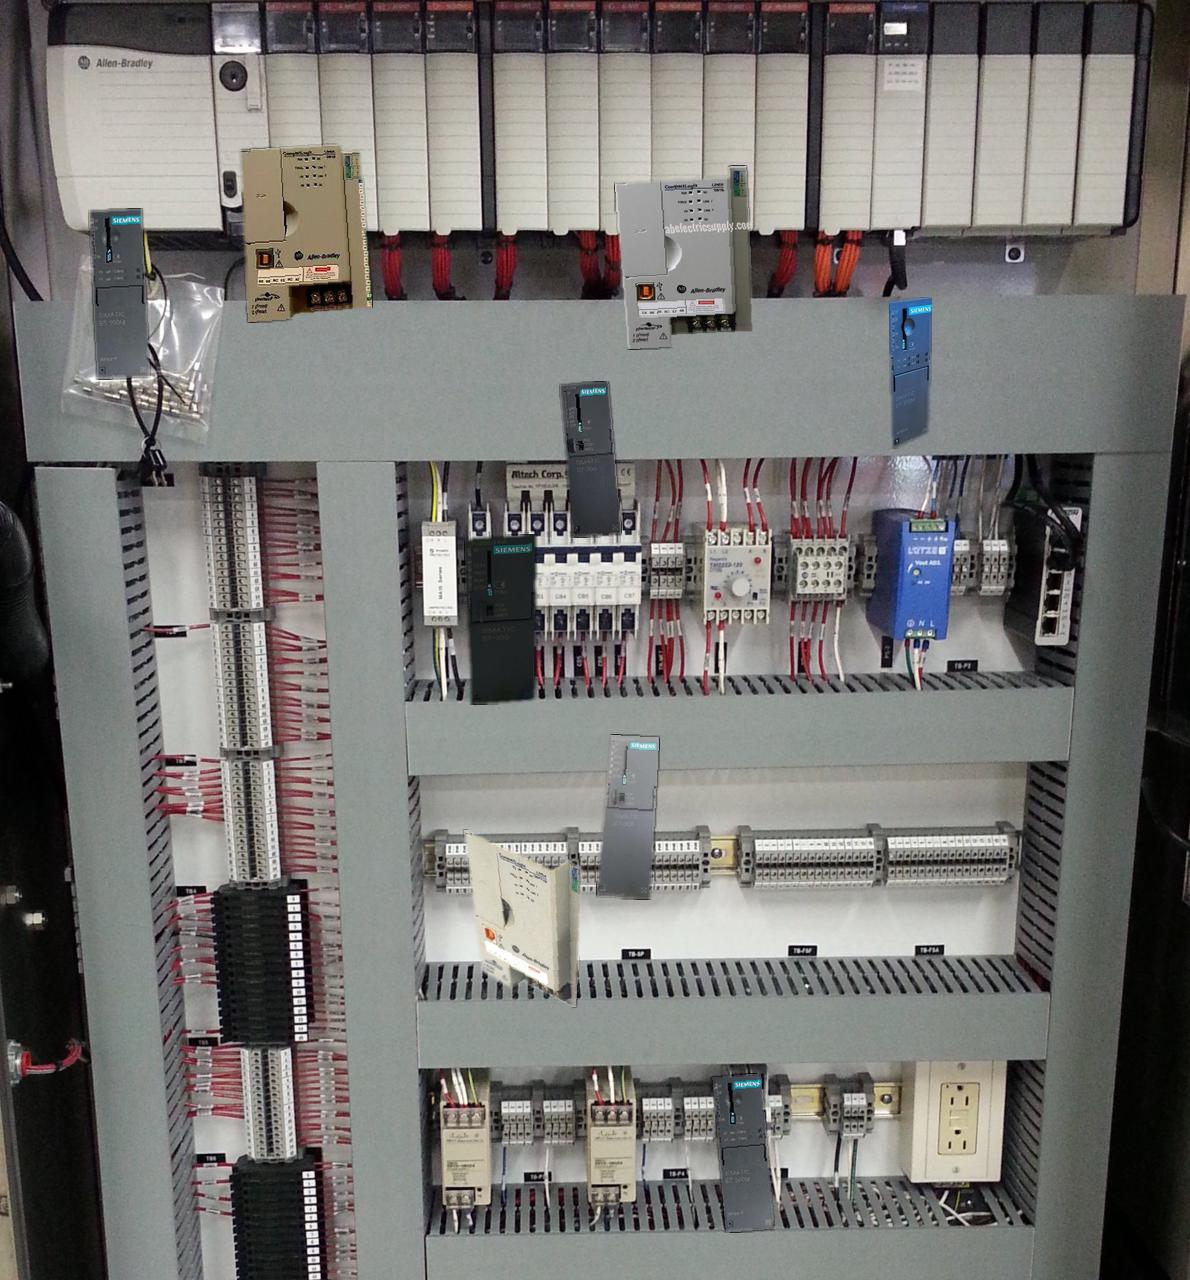AllenBradley: (615, 165, 752, 348), (240, 145, 371, 321), (464, 829, 580, 1006)
Siemens: (465, 534, 535, 704), (597, 734, 658, 898), (560, 381, 621, 537)
